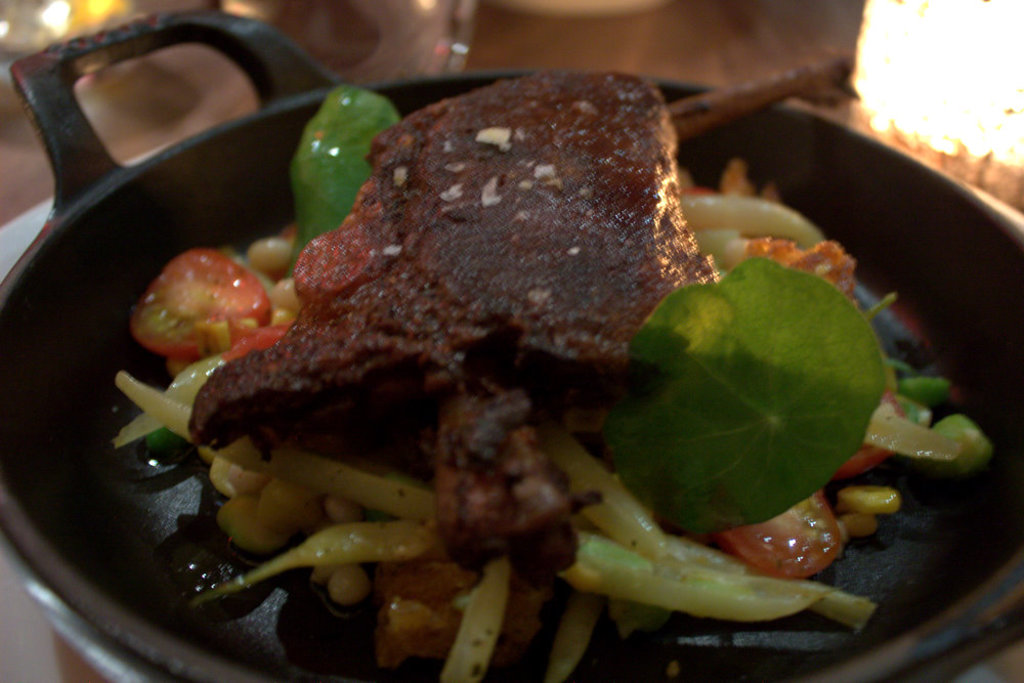Tomato: (129, 247, 277, 351), (731, 480, 845, 584)
